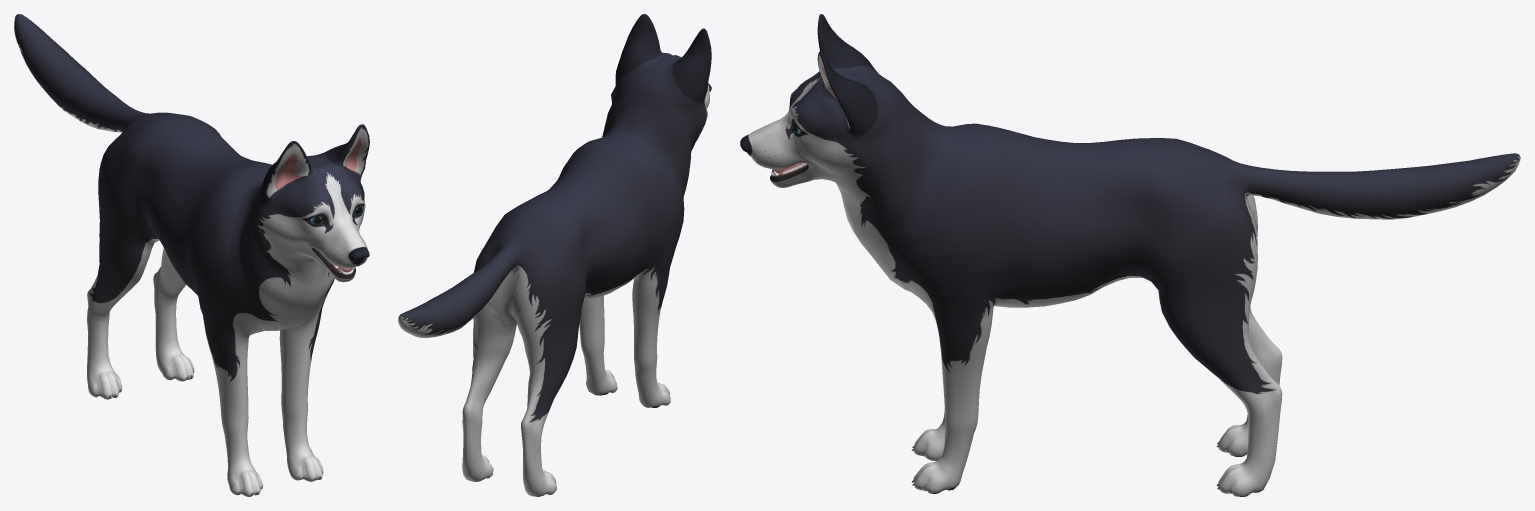
File: cartoon_husky.obj
3 views of the same model, side by side, from view 1: azimuth 30°, elevation 25°; view 2: azimuth 150°, elevation 25°; view 3: azimuth 270°, elevation 25° (orthographic). The views are drawn at different scales.
Parts seen in each view (by area): view 1: Husky_Plane.001; view 2: Husky_Plane.001; view 3: Husky_Plane.001.
Part boxes in pixels (x1=…): Husky_Plane.001: x1=14, y1=14, x2=369, y2=496; Husky_Plane.001: x1=398, y1=14, x2=711, y2=496; Husky_Plane.001: x1=740, y1=14, x2=1520, y2=496.
Bounding box in the file's own units: 0.2421 × 0.7127 × 1.15.
1 material, 1 textured.
